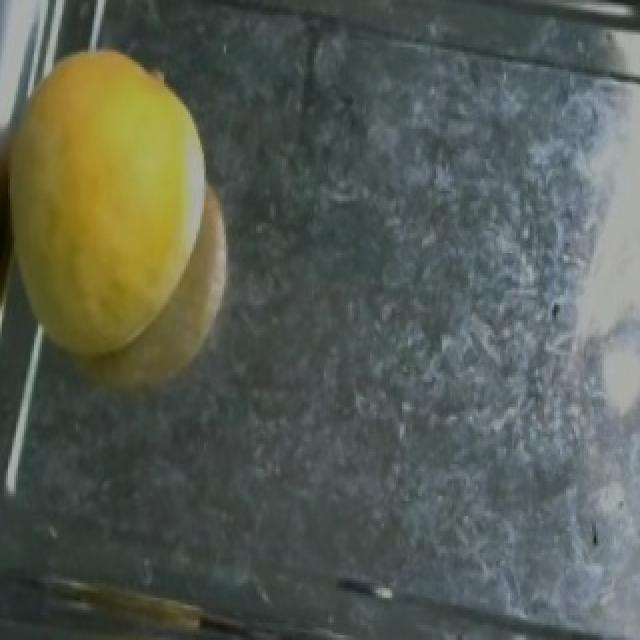fruit: (0, 37, 254, 397)
